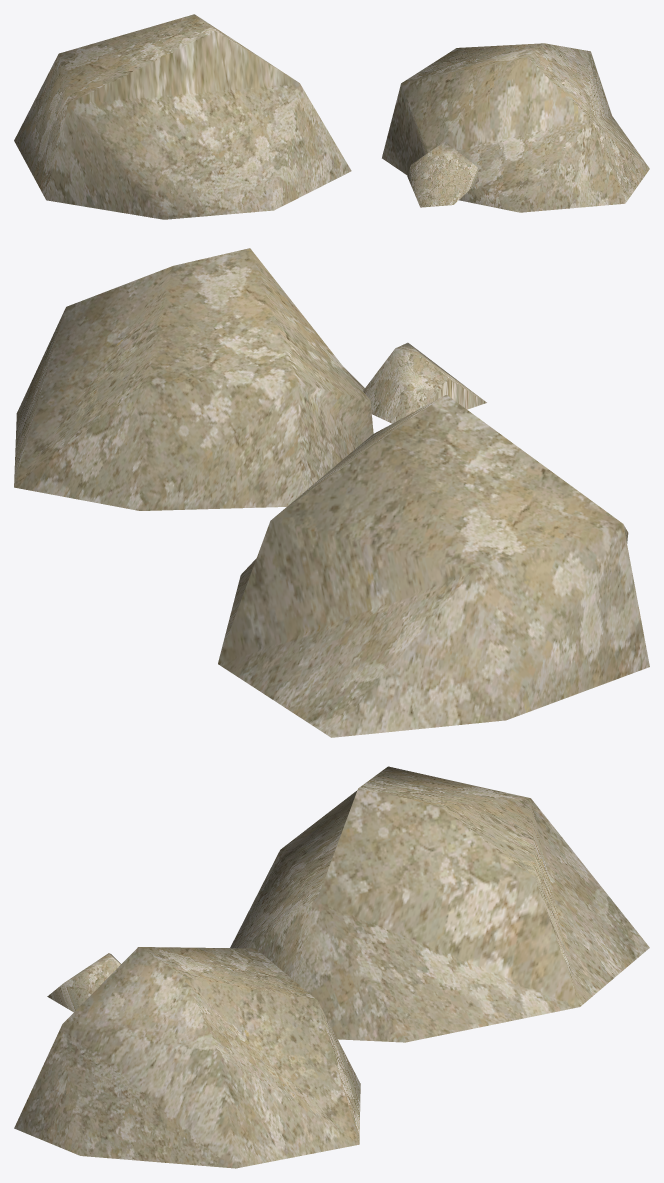
The model's file is rock_small_pile_a2_l1.fbx.
3 renders of one model, top to bottom at view 1: azimuth 30°, elevation 25°; view 2: azimuth 150°, elevation 25°; view 3: azimuth 270°, elevation 25°, orthographic. The views are drawn at different scales.
Parts seen in each view (by area): view 1: mesh_node; view 2: mesh_node; view 3: mesh_node.
Boxes of the visible parts, x1,y1,x2,y2 form: mesh_node: (14,14,649,219); mesh_node: (14,248,649,737); mesh_node: (14,766,649,1168).
Size of the model in its own units: 2.72 by 0.752 by 2.37.
